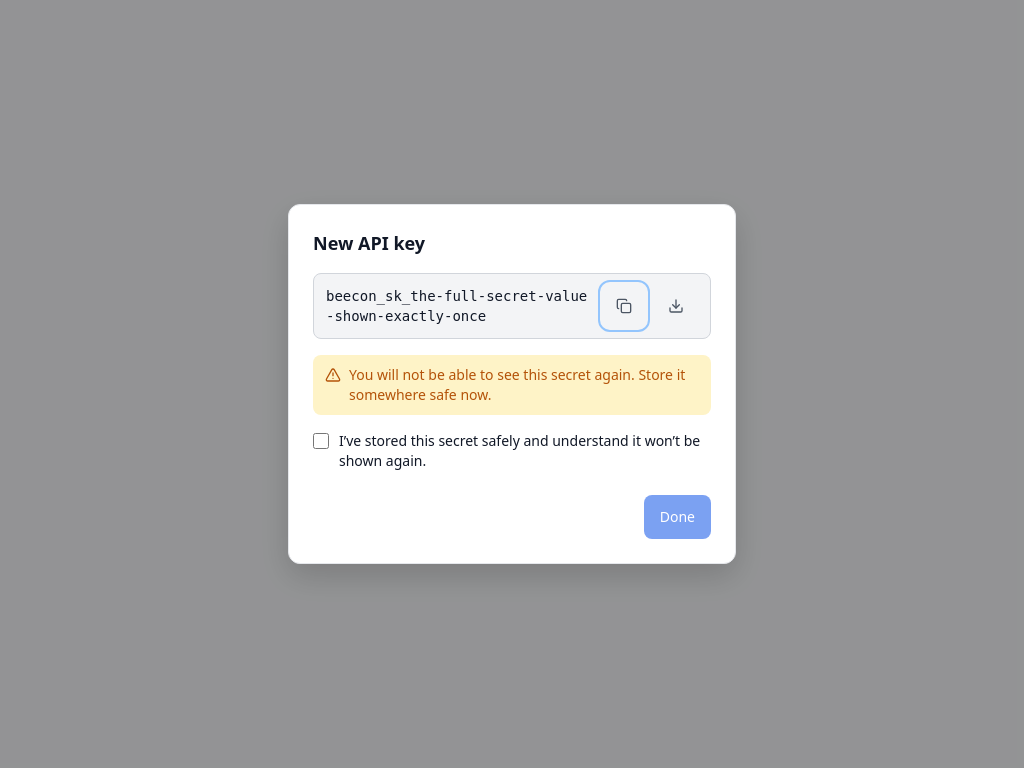
Test: SecretOnceModal › enables the Done button once the checkbox is checked
The width and height of the screenshot is (1024, 768).
Click the checkbox: {"x": 321, "y": 441} x1=313 y1=433 x2=329 y2=449
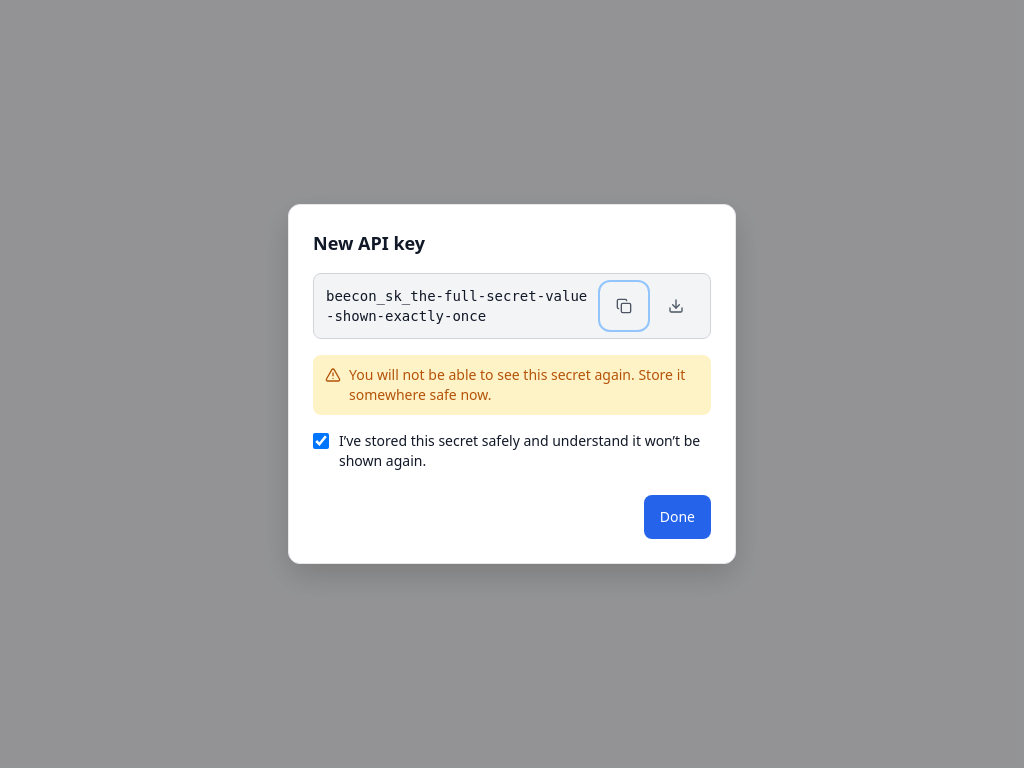
expect the button "Done" is enabled: met, box x1=644 y1=495 x2=711 y2=539
